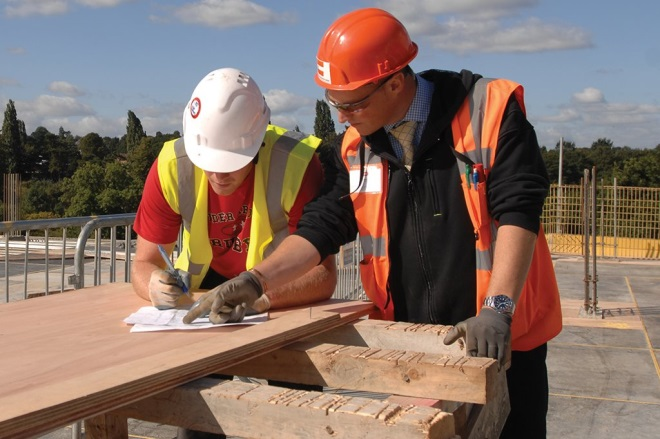hat: (167, 65, 281, 174), (305, 7, 426, 89)
jacket: (337, 77, 570, 356), (153, 117, 328, 296)
